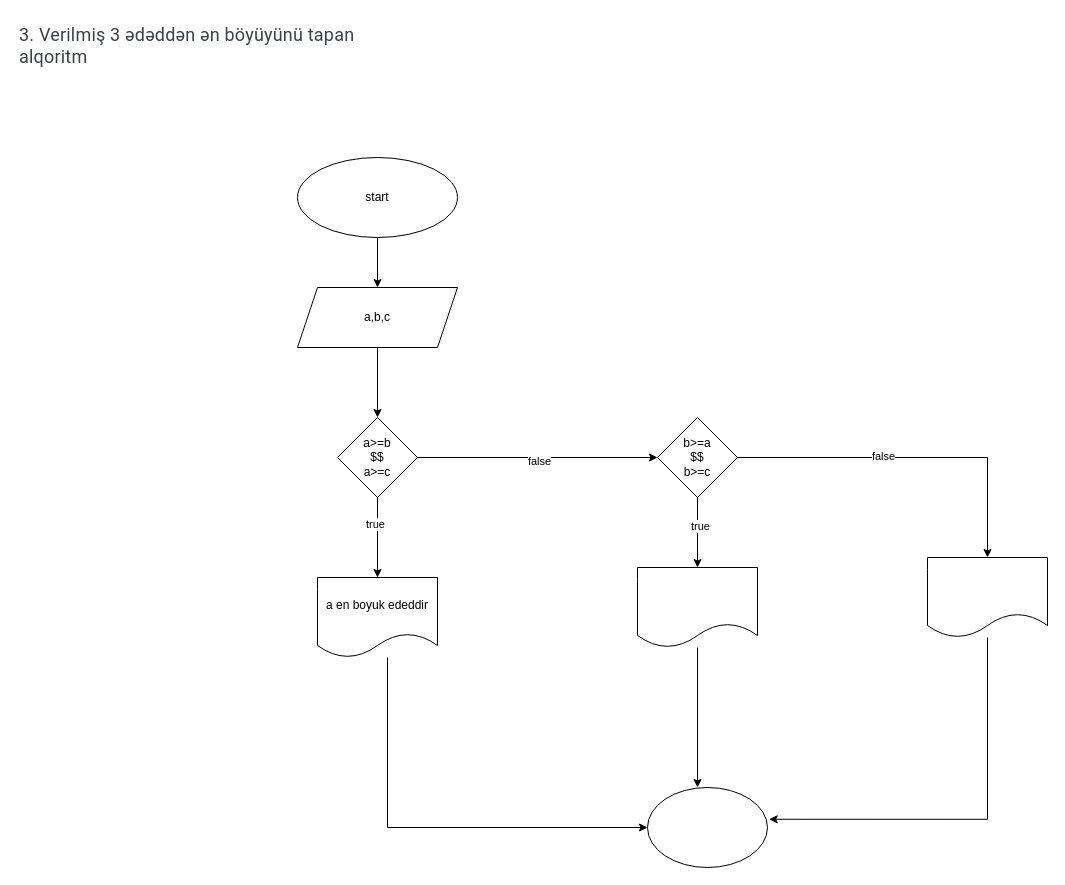
The diagram is 1065 pixels wide and 885 high, and some of its shapes have lost their labels. The box of each missing label's shape, as (x1, y1, x2, y2) in pixels:
b en boyuk ededdir: (636, 566, 758, 648)
c en boyuk ededdir: (926, 556, 1048, 638)
end: (646, 786, 768, 868)
